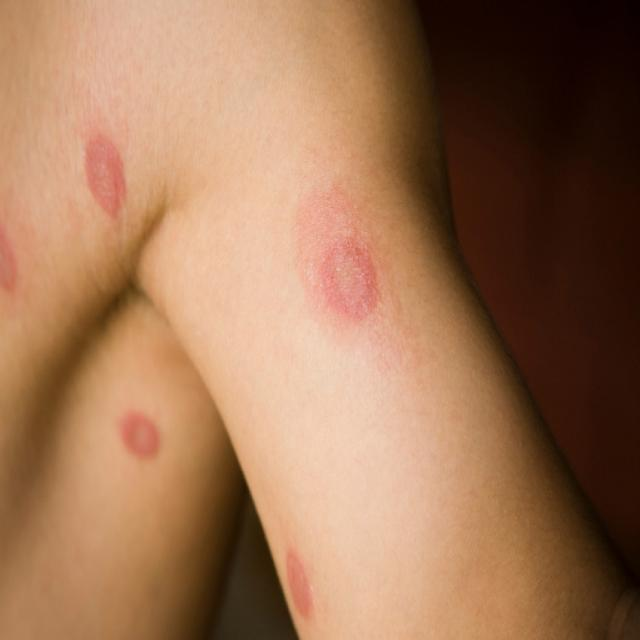tinea: (299, 205, 391, 344), (74, 130, 140, 226), (278, 549, 318, 629), (123, 406, 158, 461)
